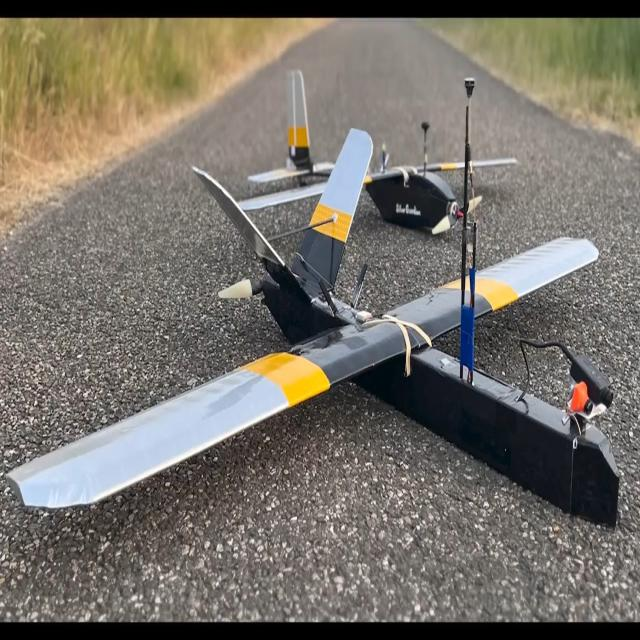iha: (2, 126, 620, 552), (233, 54, 518, 238)
